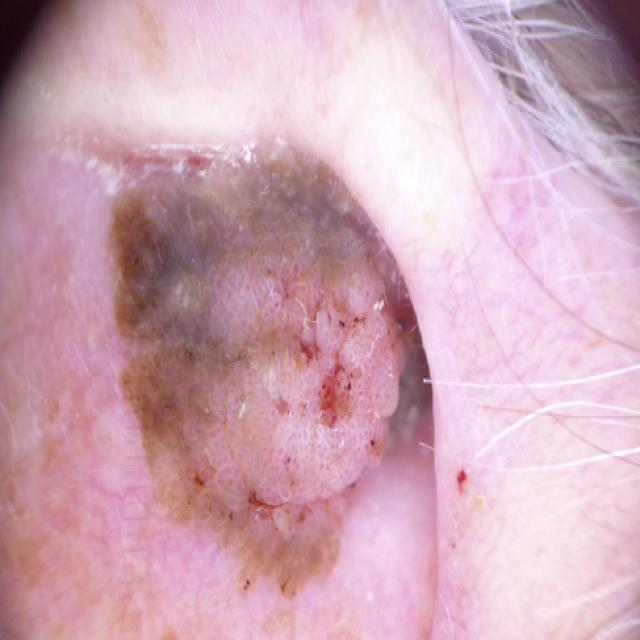Keratosis: (85, 111, 425, 560)
